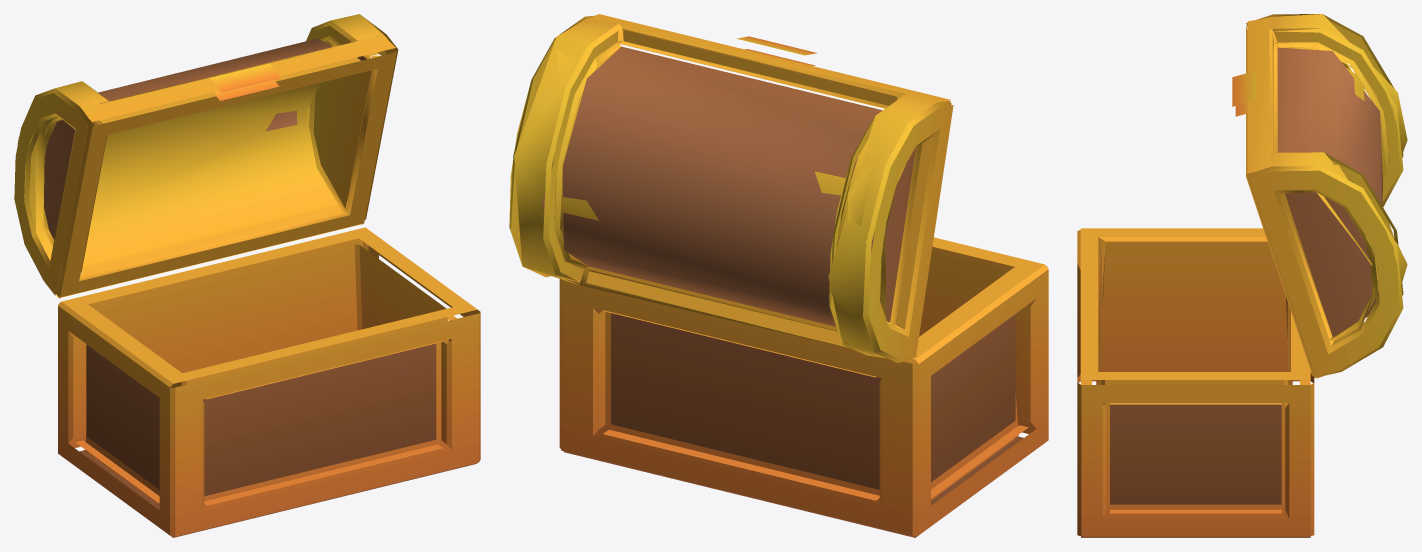
The model's file is decorSmall-harbor-59.glb.
3 renders of one model, left to right at view 1: azimuth 30°, elevation 25°; view 2: azimuth 150°, elevation 25°; view 3: azimuth 270°, elevation 25°, orthographic. The views are drawn at different scales.
Parts seen in each view (by area): view 1: piece; view 2: piece; view 3: piece.
Part boxes in pixels (x1,y1,x2,y2): piece: (14,14,480,537); piece: (509,14,1048,537); piece: (1077,14,1407,537).
Size of the model in its own units: 0.6014 by 0.6786 by 0.5398.
1 material, 1 textured.
